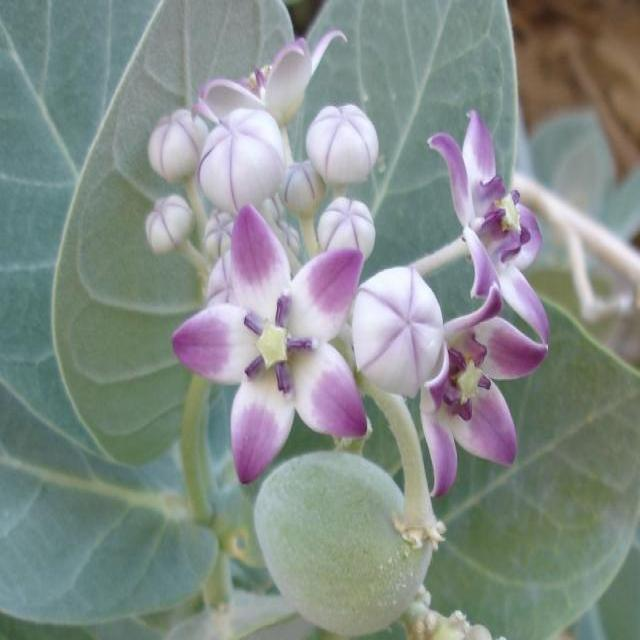Poisonous-Calatropis: (134, 29, 566, 542), (187, 406, 531, 640)
